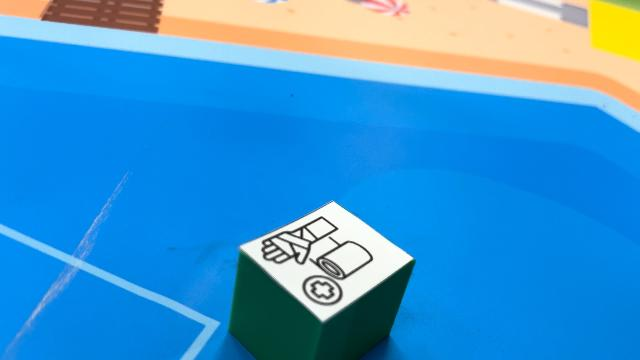bandage: (228, 200, 416, 358)
